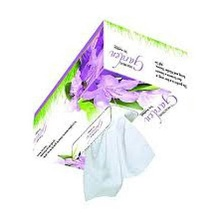book: (26, 14, 198, 176)
tissue: (76, 108, 162, 210)
